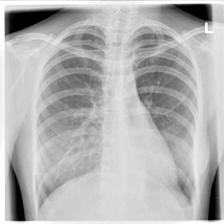tuberculosis: (29, 14, 205, 217)
